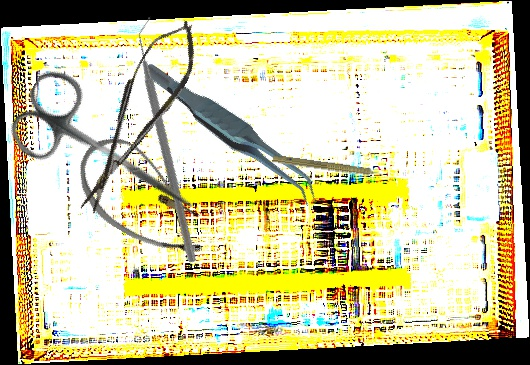Cannula: (60, 125, 230, 272)
Chopper: (46, 15, 296, 265)
Handpiece: (271, 152, 392, 184)
Iris Scissors: (0, 62, 218, 243)
Micro Scissor: (59, 11, 214, 222)
Tissue Forceps: (141, 32, 323, 232)
